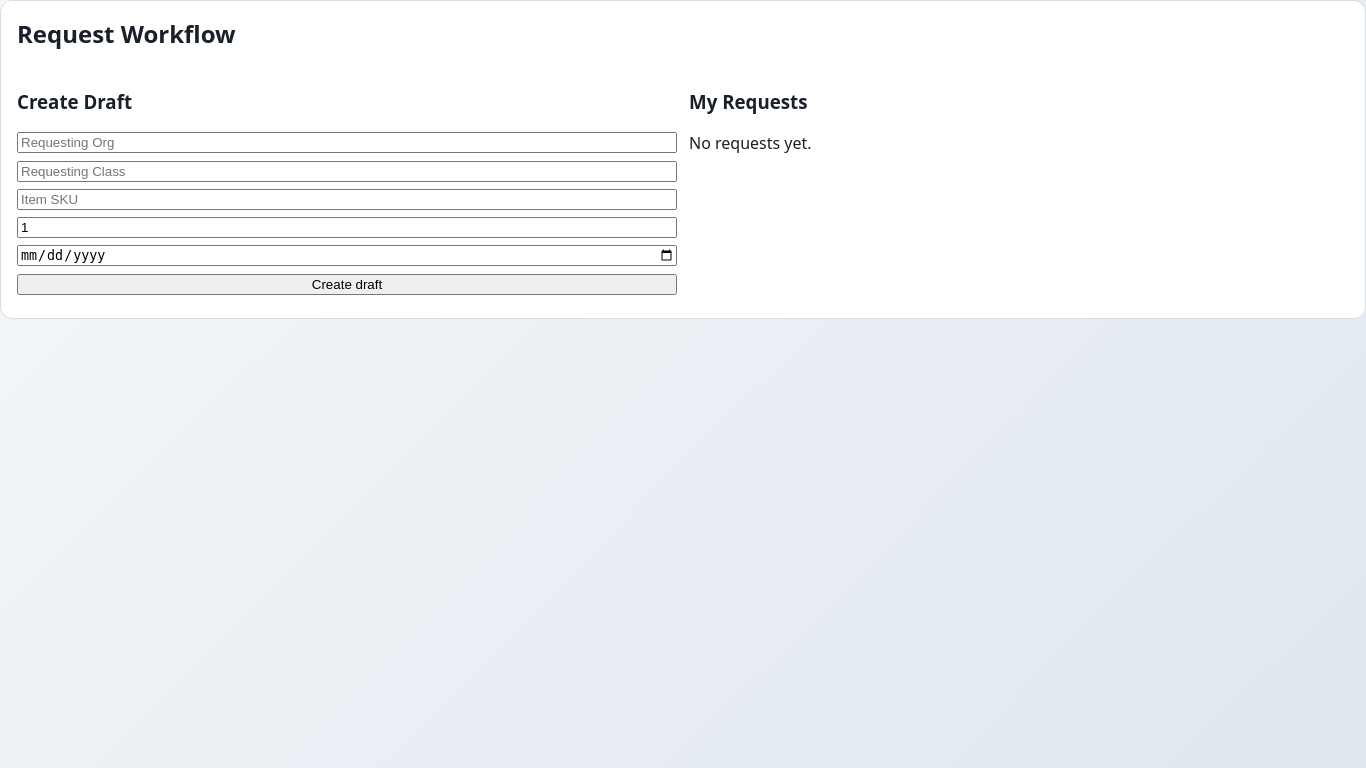
Test: RequestWorkflowPanel › displays error message on create failure and does NOT clear form
This screenshot has width=1366, height=768.
Type "SKU-FAIL" into the field with placeholder "Item SKU". click: (347, 199)
box: [17,189,677,210]
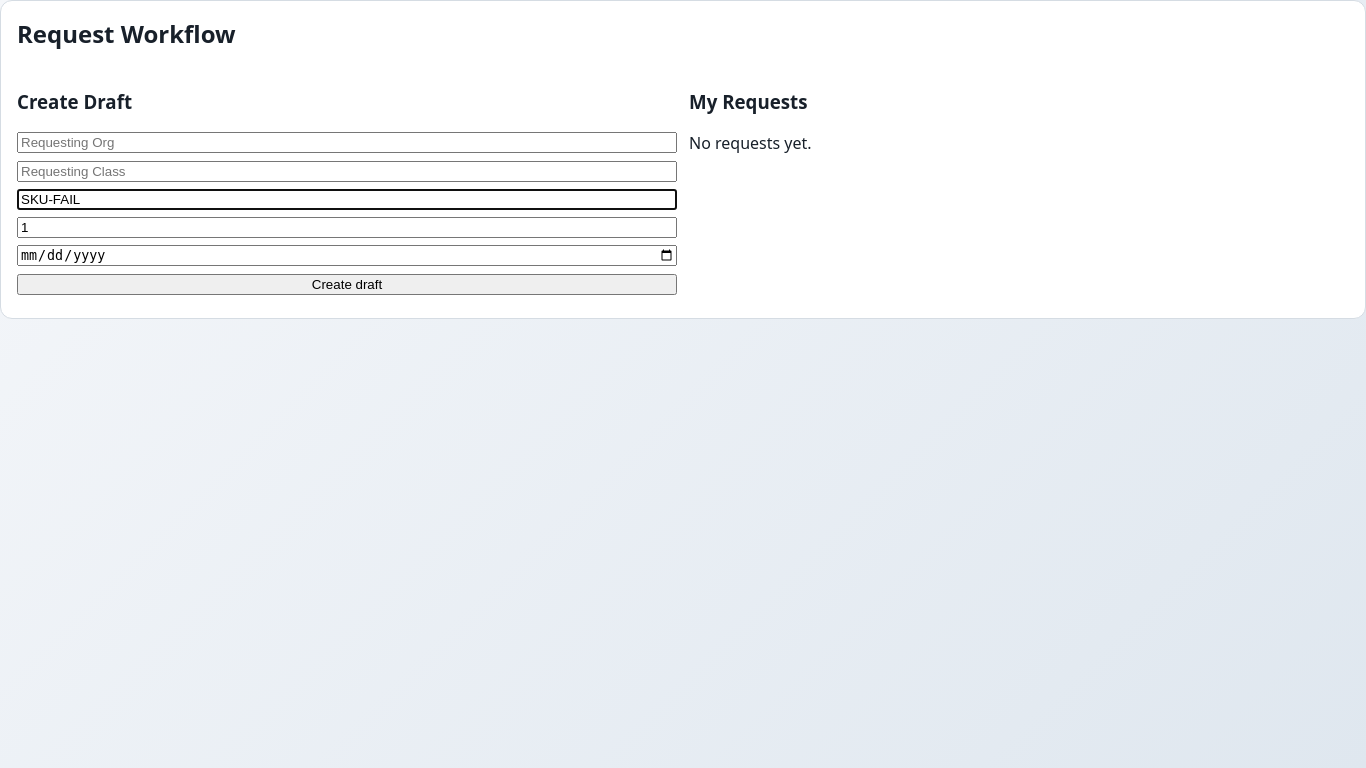
Click the button "Create draft". click: (347, 284)
box: [17,274,677,295]
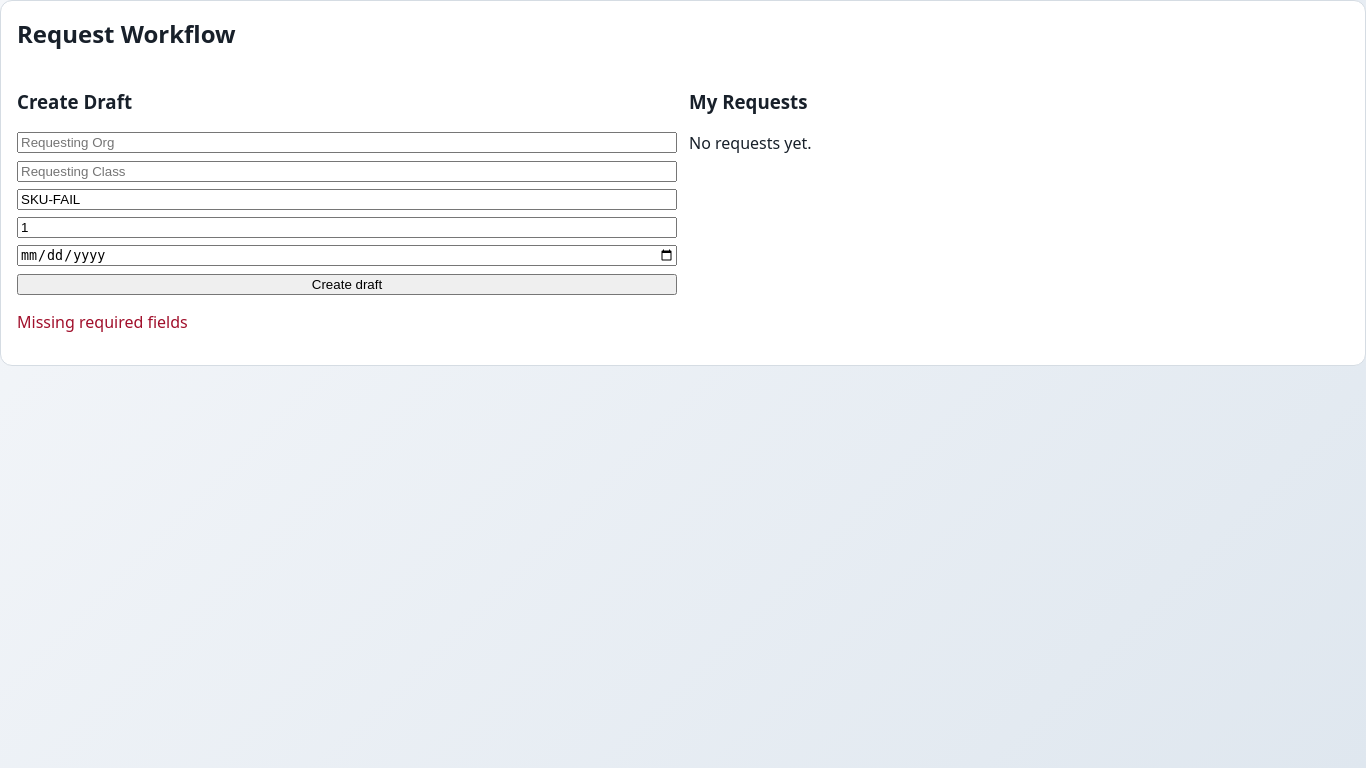
expect the text "Missing required fields" is shown: met, box [17,311,188,333]
